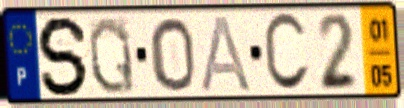2: (314, 10, 360, 93)
A: (198, 13, 254, 94)
C: (261, 10, 313, 96)
O: (147, 15, 198, 94)
Q: (86, 13, 137, 97)
S: (35, 14, 92, 99)
